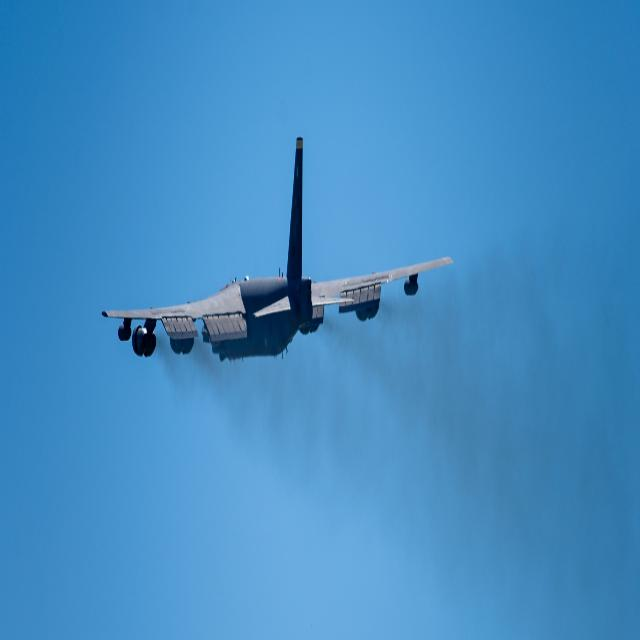MIL_Plane: (0, 135, 261, 367)
